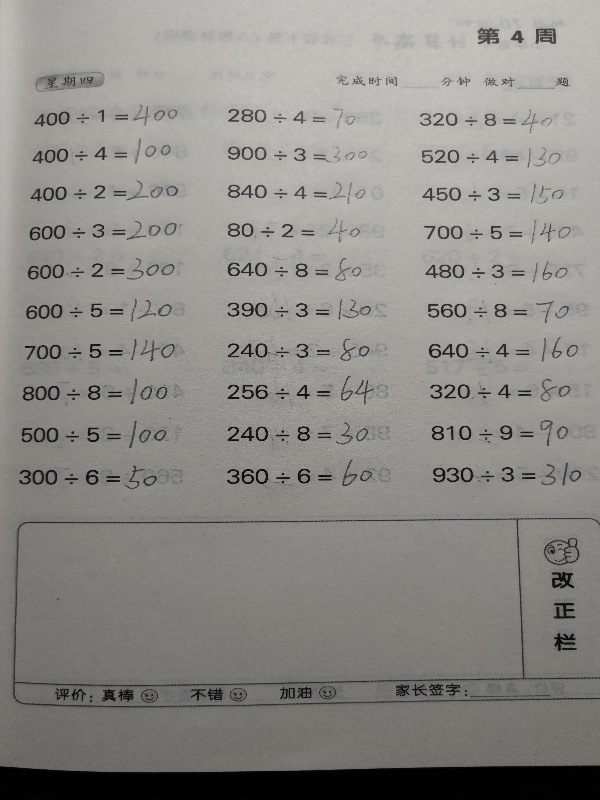equation: (17, 418, 175, 454), (224, 374, 378, 409), (223, 459, 376, 494), (28, 173, 182, 205), (428, 416, 572, 450), (19, 376, 172, 408), (223, 334, 375, 366), (424, 336, 582, 366), (21, 334, 178, 364), (428, 461, 584, 491), (16, 462, 161, 494), (22, 295, 176, 325), (218, 101, 362, 133), (225, 418, 373, 449), (427, 375, 575, 406), (24, 254, 178, 283), (223, 251, 371, 281), (30, 101, 185, 129), (424, 298, 573, 327), (29, 136, 174, 165), (25, 218, 180, 245), (223, 216, 370, 244), (224, 296, 375, 323), (416, 106, 566, 133), (224, 139, 374, 165), (420, 221, 574, 246), (224, 178, 372, 203), (420, 182, 573, 206), (421, 260, 569, 284), (419, 145, 565, 168)
